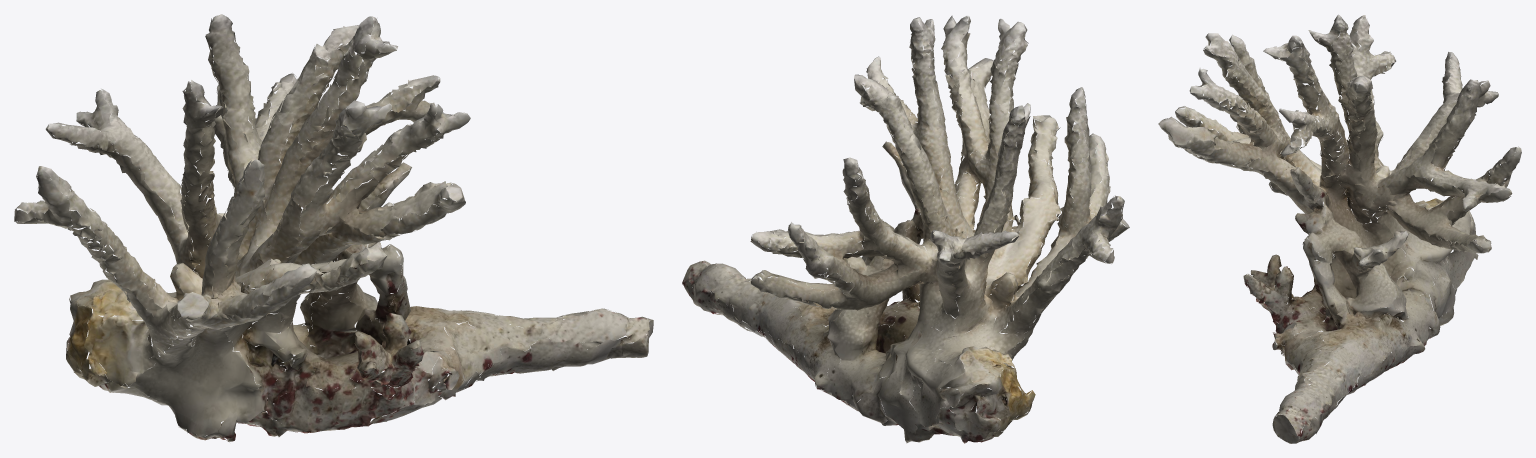
Rendered from skeleton.glb.
The picture shows the model from 3 angles, left to right: view 1: azimuth 30°, elevation 25°; view 2: azimuth 150°, elevation 25°; view 3: azimuth 270°, elevation 25°; orthographic projection. The views are drawn at different scales.
Parts seen in each view (by area): view 1: USNM_74016_Dry_Skeleton_25k; view 2: USNM_74016_Dry_Skeleton_25k; view 3: USNM_74016_Dry_Skeleton_25k.
Boxes of the visible parts, box(x1,y1,x2,y2) form: USNM_74016_Dry_Skeleton_25k: box(14, 14, 653, 442); USNM_74016_Dry_Skeleton_25k: box(682, 15, 1129, 443); USNM_74016_Dry_Skeleton_25k: box(1158, 14, 1521, 443).
Size of the model in its own units: 0.2827 by 0.203 by 0.2015.
1 material, 1 textured.
